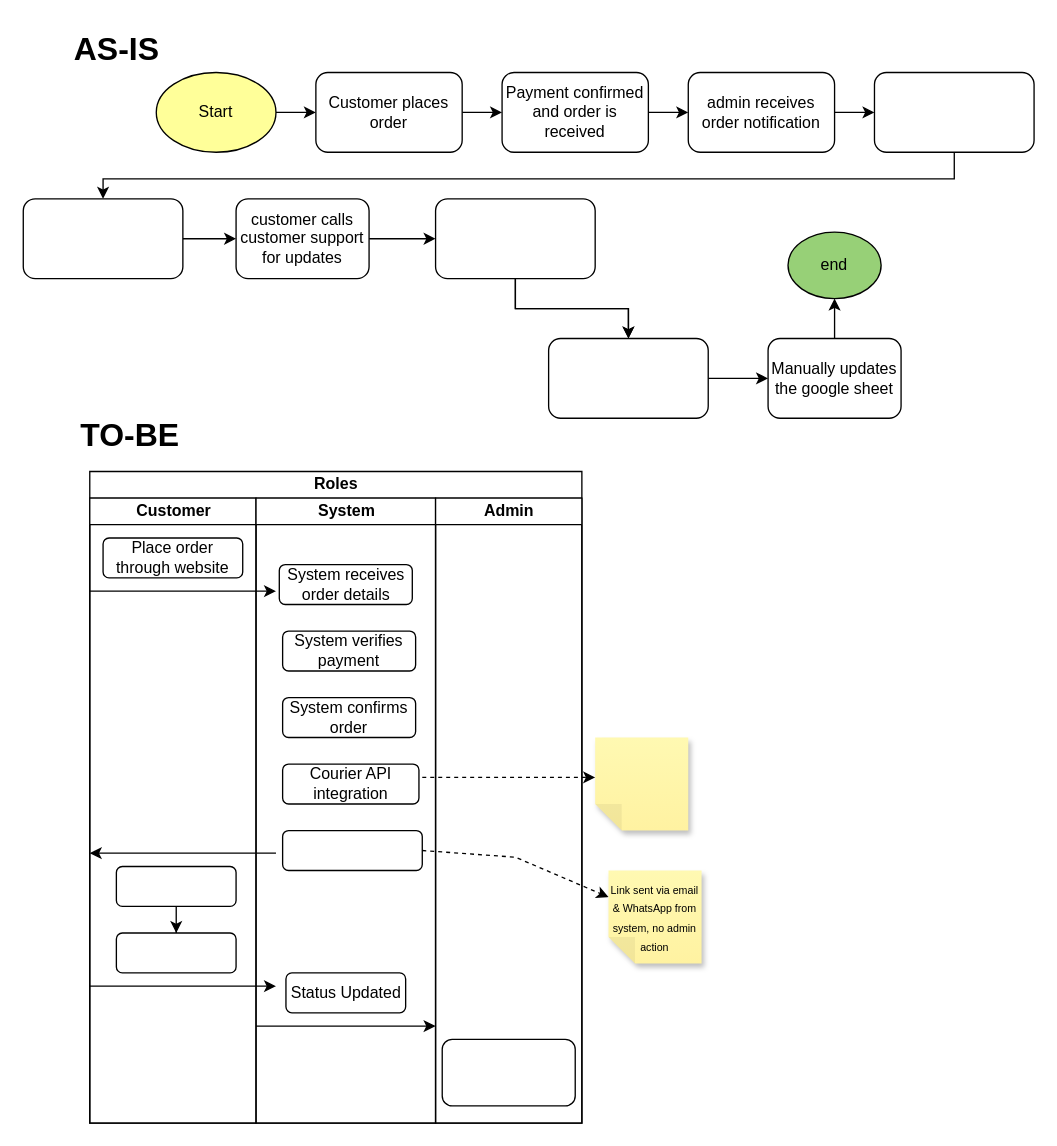
This 1057x1146 diagram has some shape labels left out. Here are the shapes that lost their labels. From the top down, the centre of each, then its label:
At pixel 953 111: "admin manually assigns order to courier by call or googlesheet".
At pixel 102 238: "courier then dispatches the order with no update link shared".
At pixel 514 238: "the order is finally delivered on a random day".
At pixel 627 377: "Admin gets email/msg from courier once delivered".
At pixel 642 785: "API auto-assigns courier based on region and availability".
At pixel 351 849: "Tracking link sent to customer".
At pixel 175 885: "Tracks order in real-time".
At pixel 175 952: "Order delivered".
At pixel 508 1072: "dashboard update for admin monitoring".
